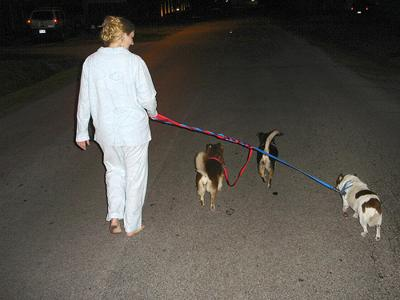person: (75, 18, 158, 236)
